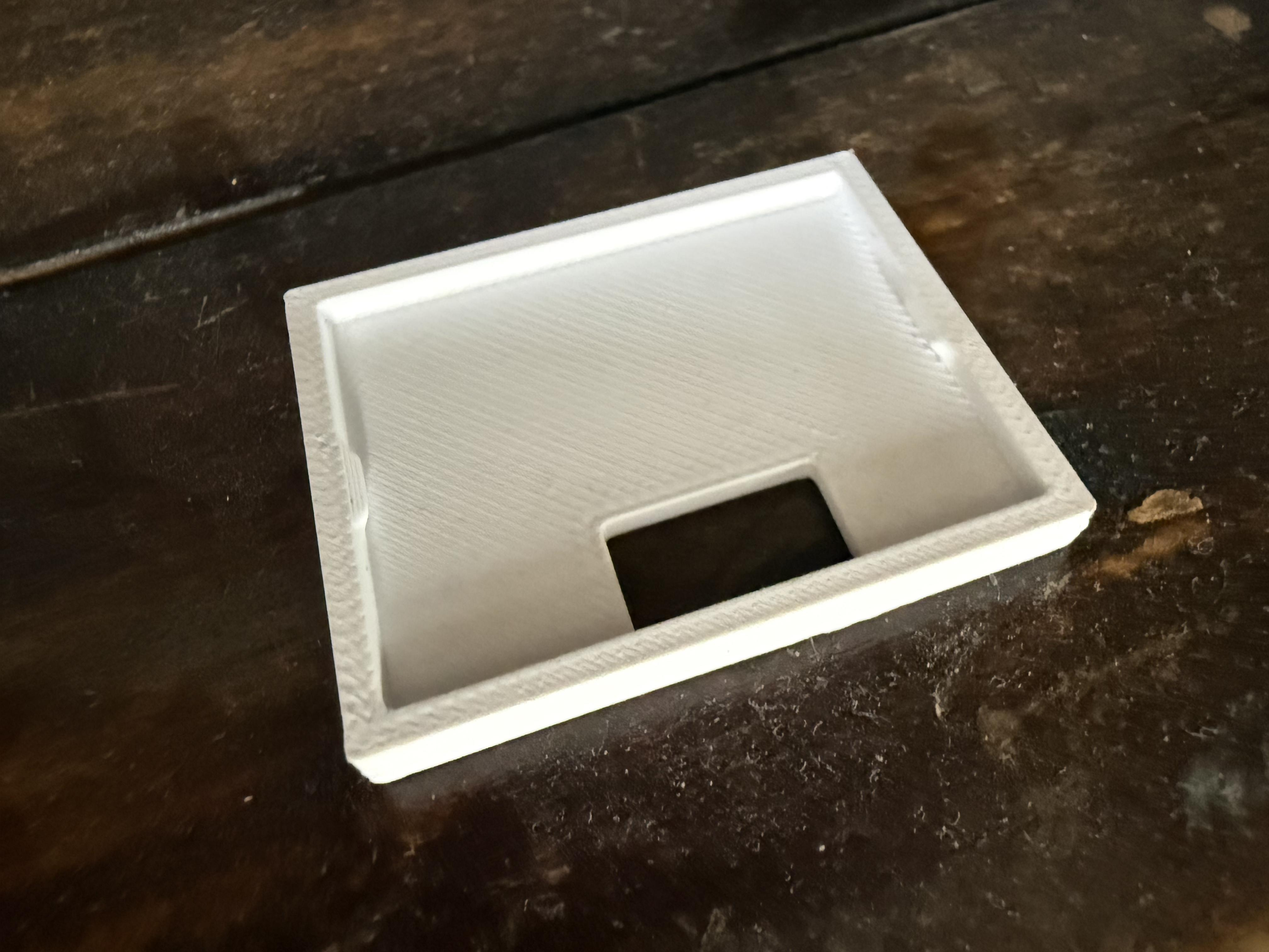enclosure: (283, 148, 1099, 785)
